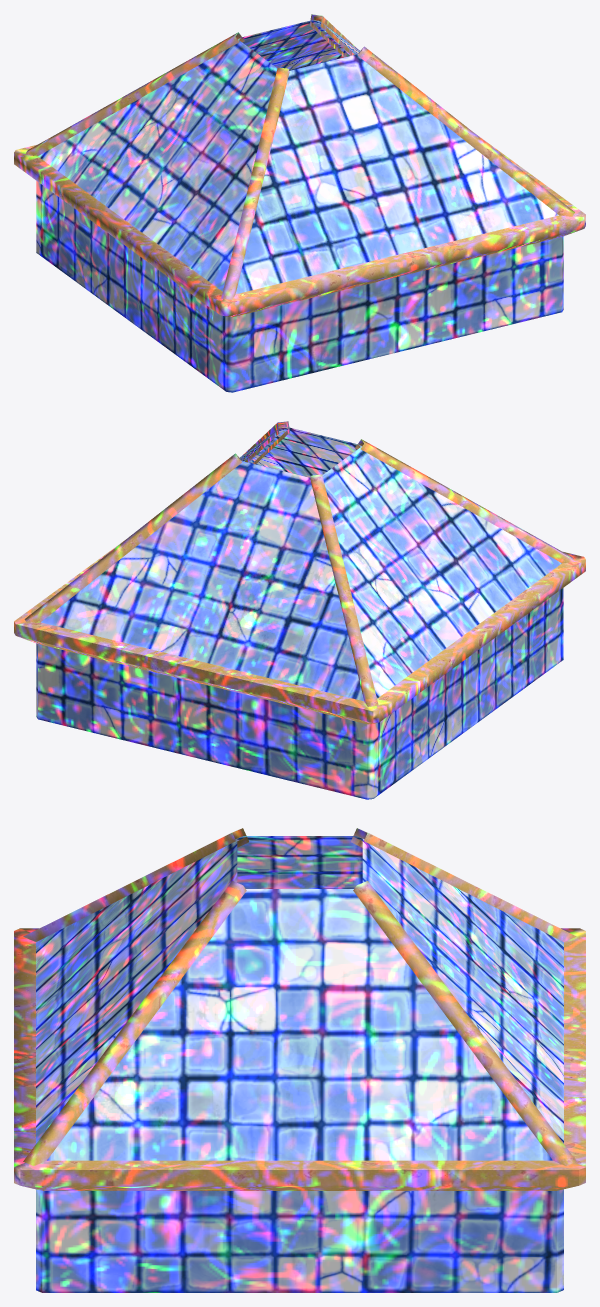
The model's file is water_corner_inverse_SM.fbx.
The picture shows the model from 3 angles, top to bottom: view 1: azimuth 30°, elevation 25°; view 2: azimuth 150°, elevation 25°; view 3: azimuth 270°, elevation 25°; orthographic projection. The views are drawn at different scales.
Visible parts, largest first — view 1: water_corner_inverse_SM_LOD0; view 2: water_corner_inverse_SM_LOD0; view 3: water_corner_inverse_SM_LOD0.
Part boxes in pixels (left/top/right/bottom): water_corner_inverse_SM_LOD0: left=14, top=14, right=585, bottom=392; water_corner_inverse_SM_LOD0: left=14, top=421, right=585, bottom=799; water_corner_inverse_SM_LOD0: left=14, top=828, right=585, bottom=1292.
Size of the model in its own units: 416 by 416 by 261.
2 materials, 2 textured.
